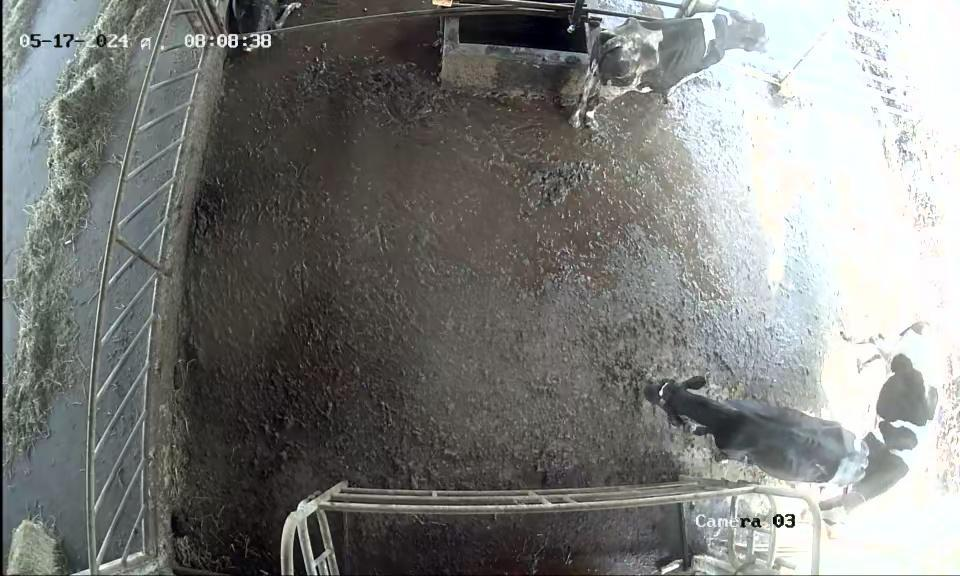stand: (643, 360, 873, 488), (821, 314, 937, 543)
